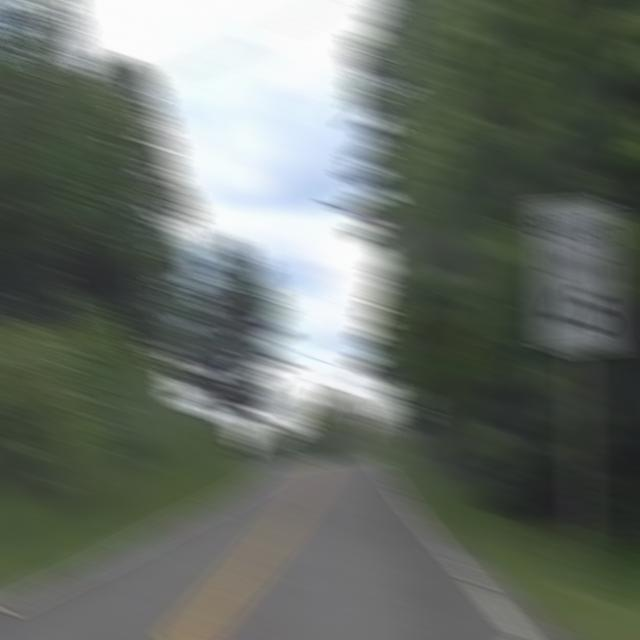speedLimit45: (528, 192, 625, 358)
